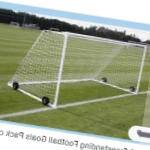goals: (7, 28, 148, 114)
